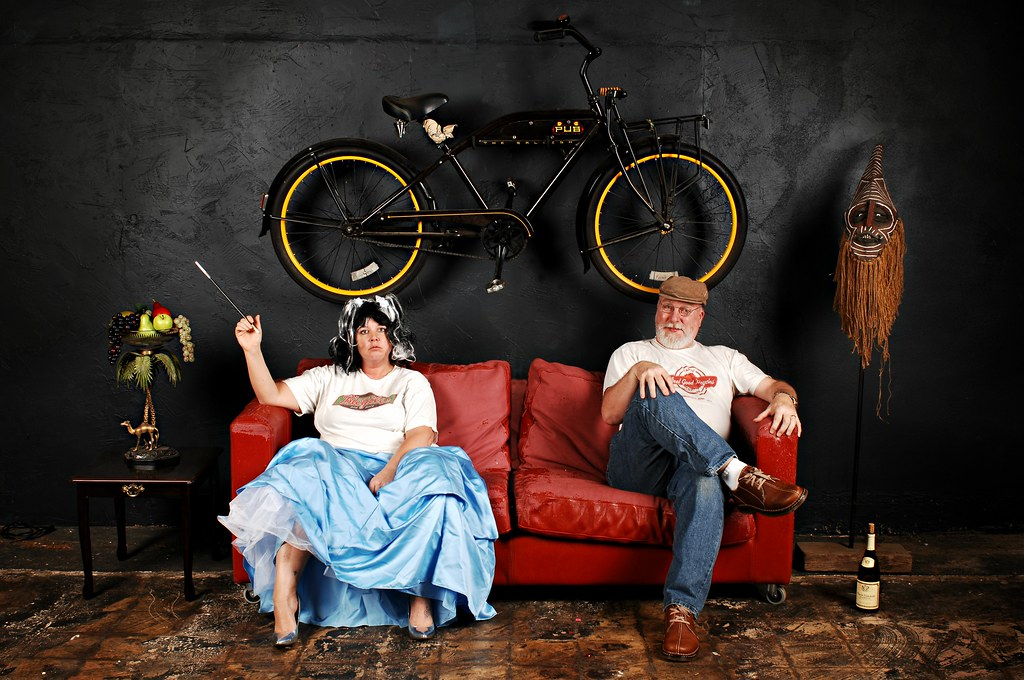bottle: (848, 503, 897, 639)
cycle: (227, 12, 781, 301)
person: (214, 242, 508, 638), (594, 261, 806, 662)
